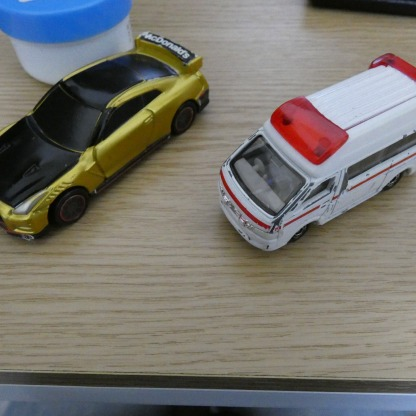car: (0, 27, 209, 248), (220, 42, 416, 259)
